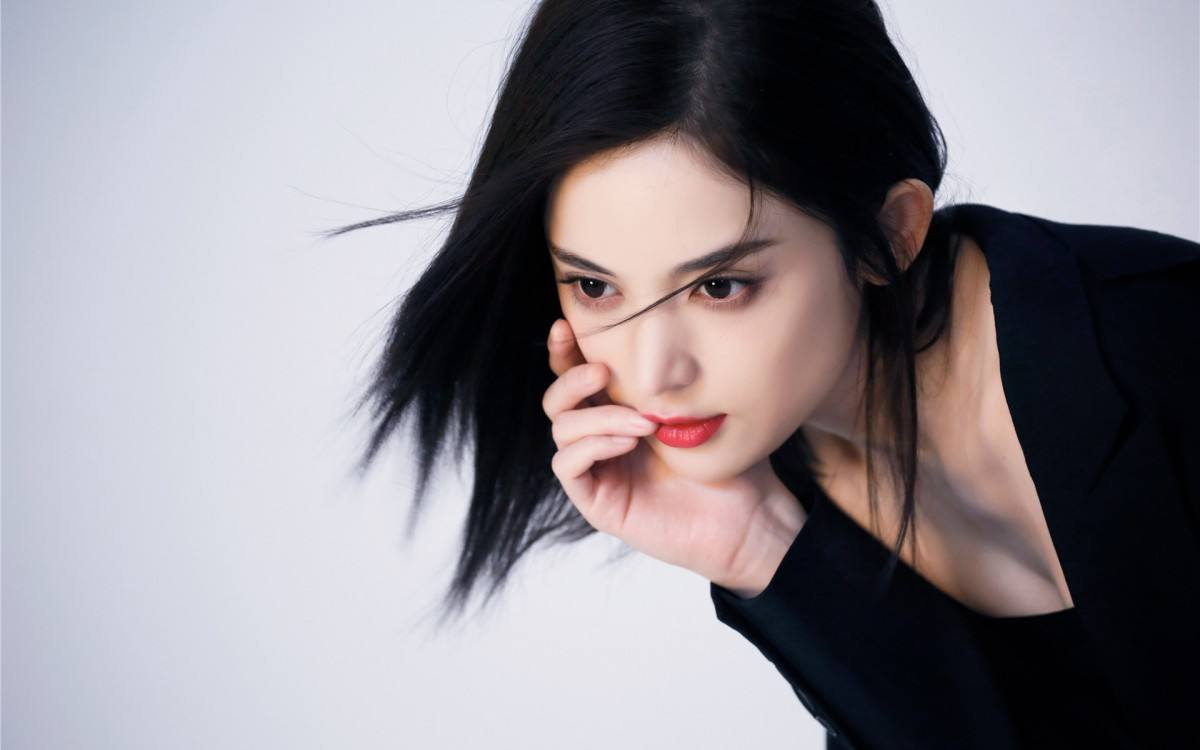person: (425, 45, 1200, 750)
